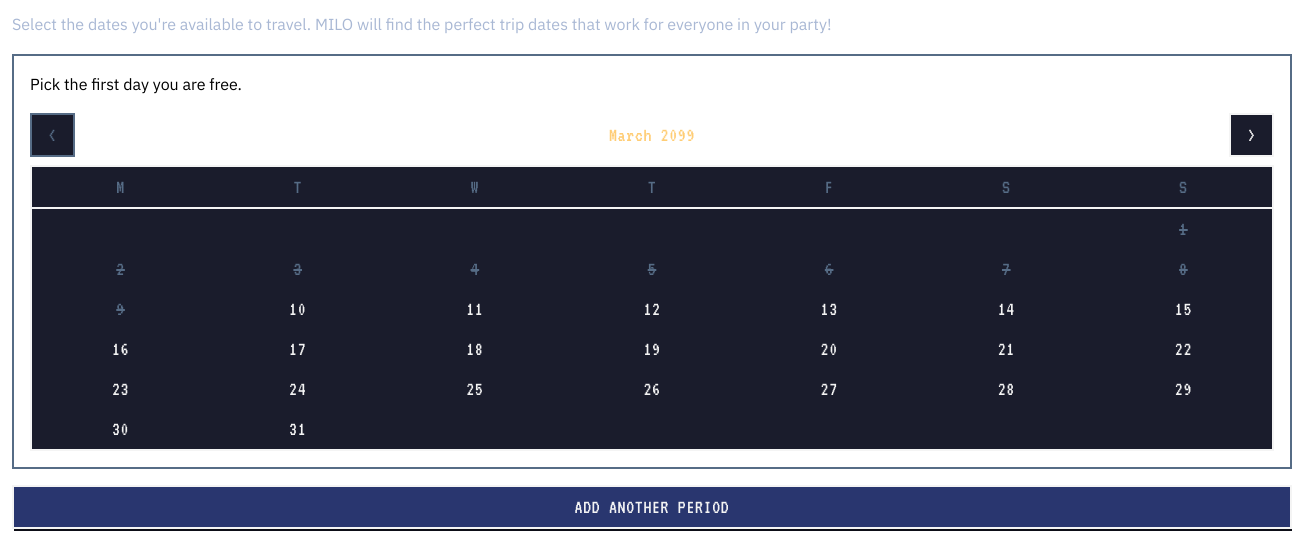
AvailabilityPicker › picks the first day, then the last, and folds down to a summary
The image size is (1304, 548).
Click the button named "Fri 13 Mar" at (829, 309), box left=741, top=289, right=918, bottom=329
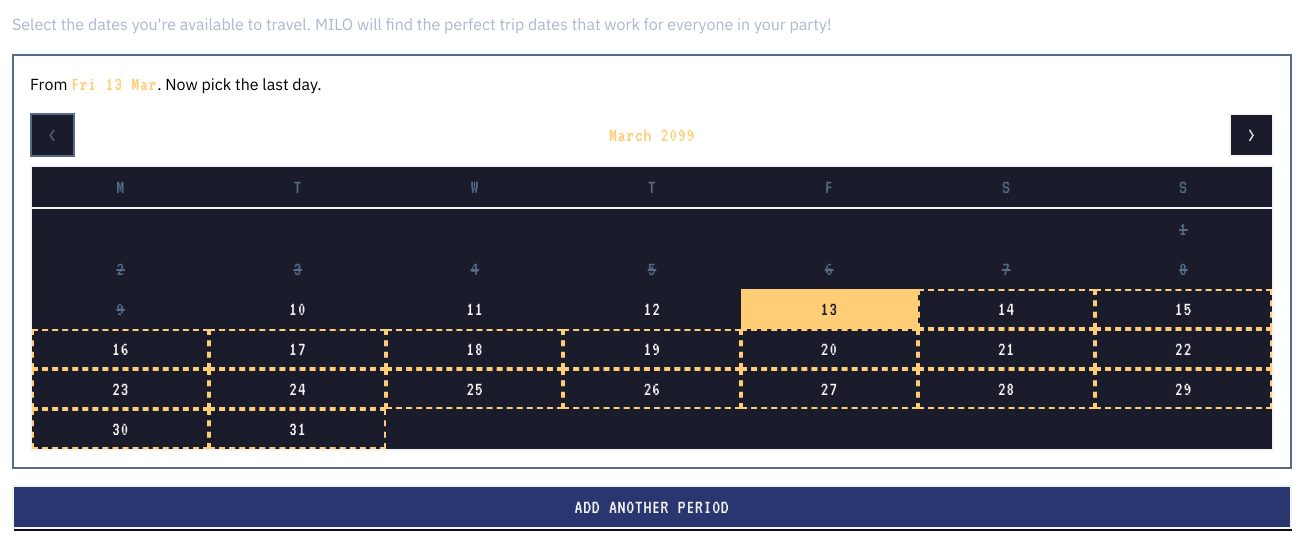
expect the element named "Free period 1" shows "From Fri 13 Mar. Now pick the last day.": met
Click the button named "Sun 22 Mar, can be the last day" at (1183, 349), box left=1095, top=329, right=1272, bottom=369
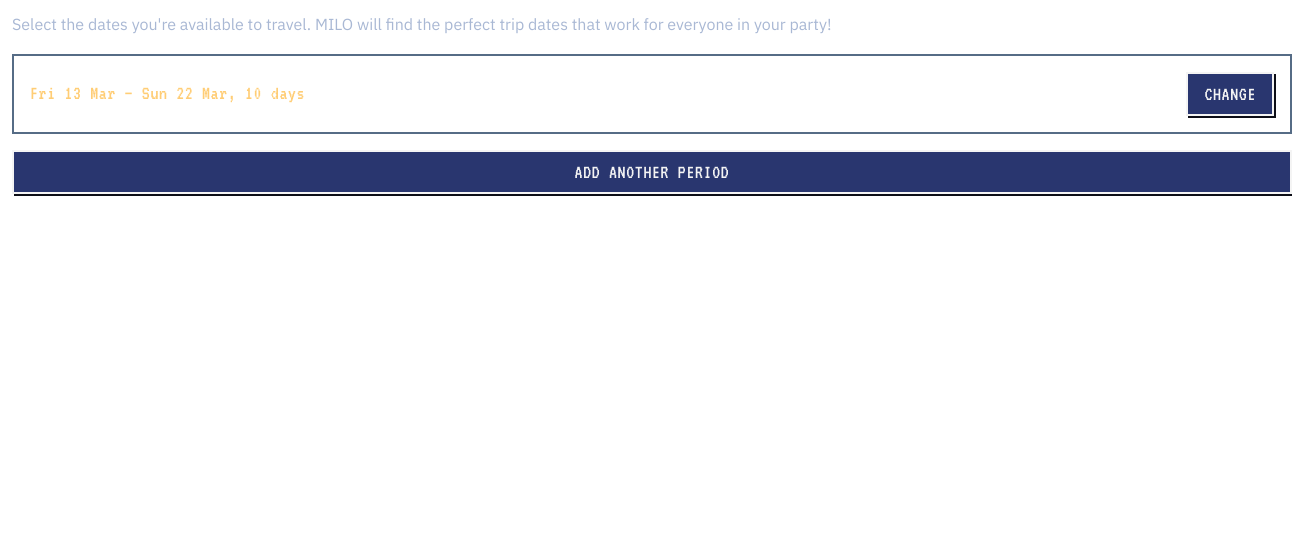
expect the text "Fri 13 Mar – Sun 22 Mar, 10 days" is shown: met, box left=30, top=83, right=305, bottom=103
expect the button with aria-label "Change free period 1" is shown: met, box left=1186, top=72, right=1274, bottom=116
